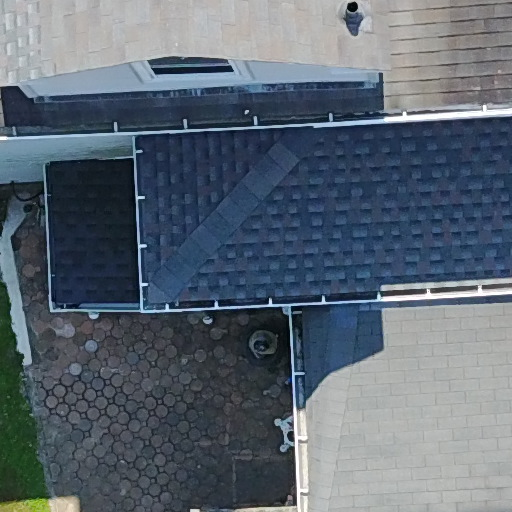container: (243, 321, 286, 361)
